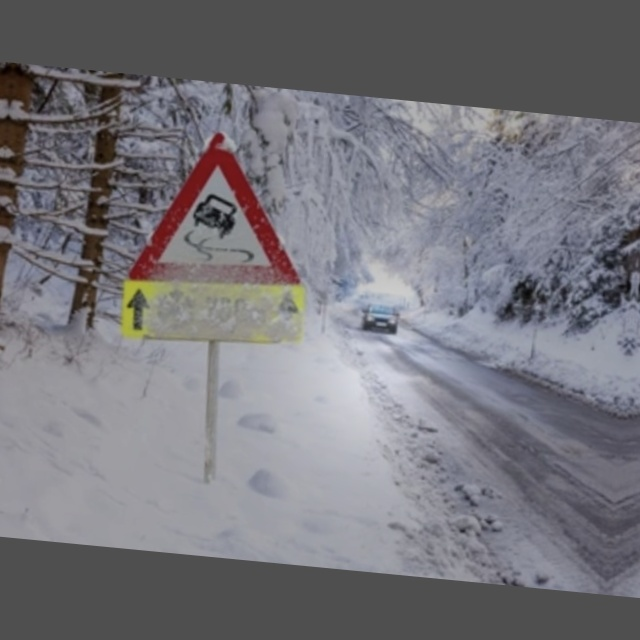Slippery_Road: (129, 118, 304, 308)
